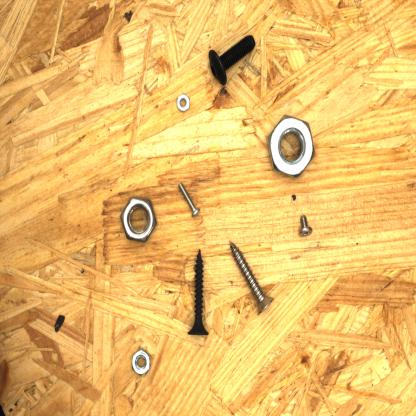screw: (226, 237, 277, 318), (205, 29, 260, 90), (184, 246, 214, 341), (175, 178, 203, 220), (293, 208, 316, 240)
